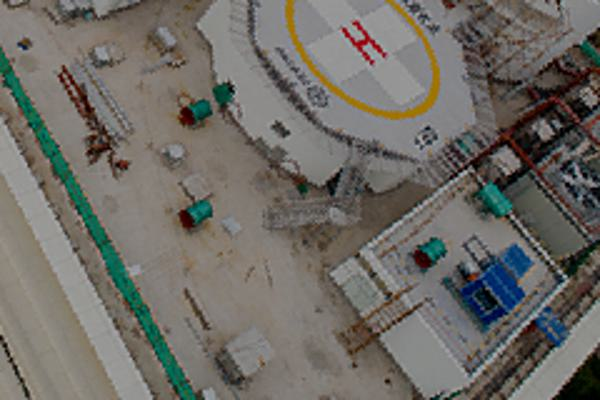Apron: (285, 1, 459, 125)
